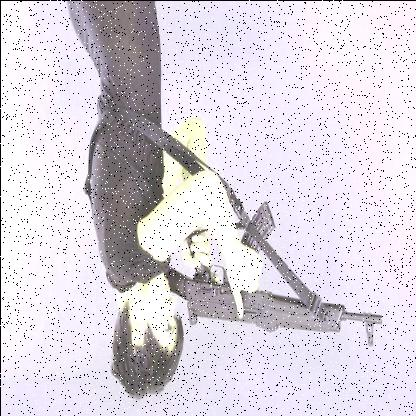rifle: (163, 197, 384, 359)
